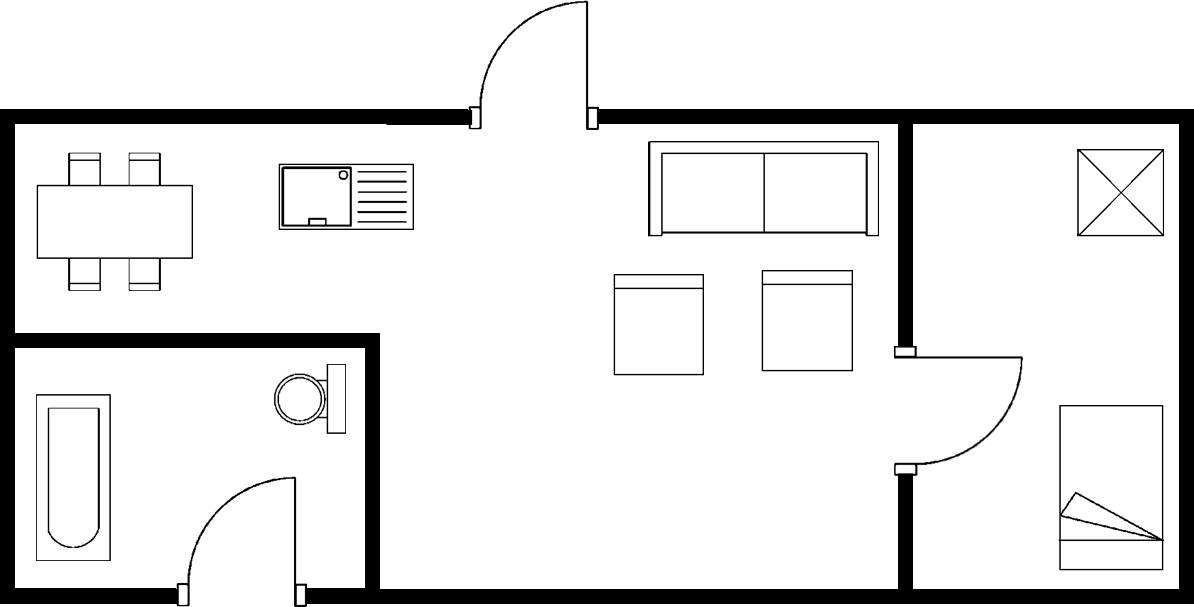bed: (1053, 397, 1169, 575)
coffee_table: (1070, 142, 1174, 242)
dining_table: (30, 143, 198, 297)
large_sink: (268, 355, 354, 444)
large_sofa: (641, 135, 884, 245)
sink: (273, 156, 421, 238)
small_sofa: (606, 266, 715, 382), (756, 264, 862, 379)
tub: (28, 388, 117, 568)
